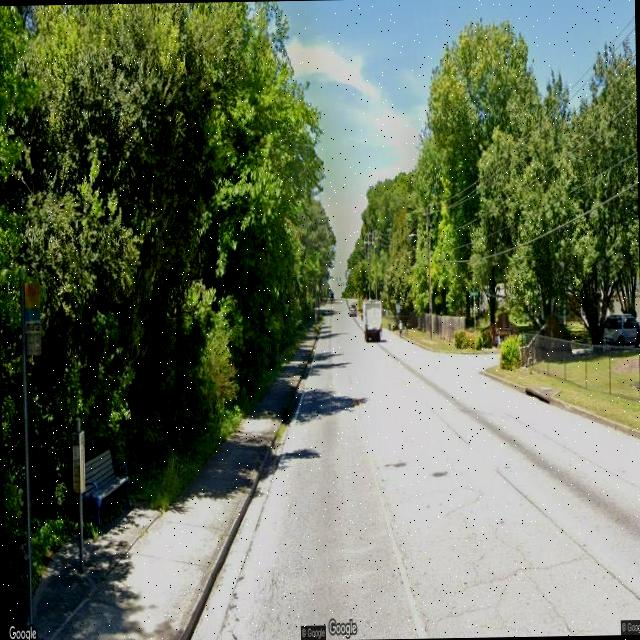seating: (72, 446, 132, 536)
trash_can: (4, 536, 29, 636)
